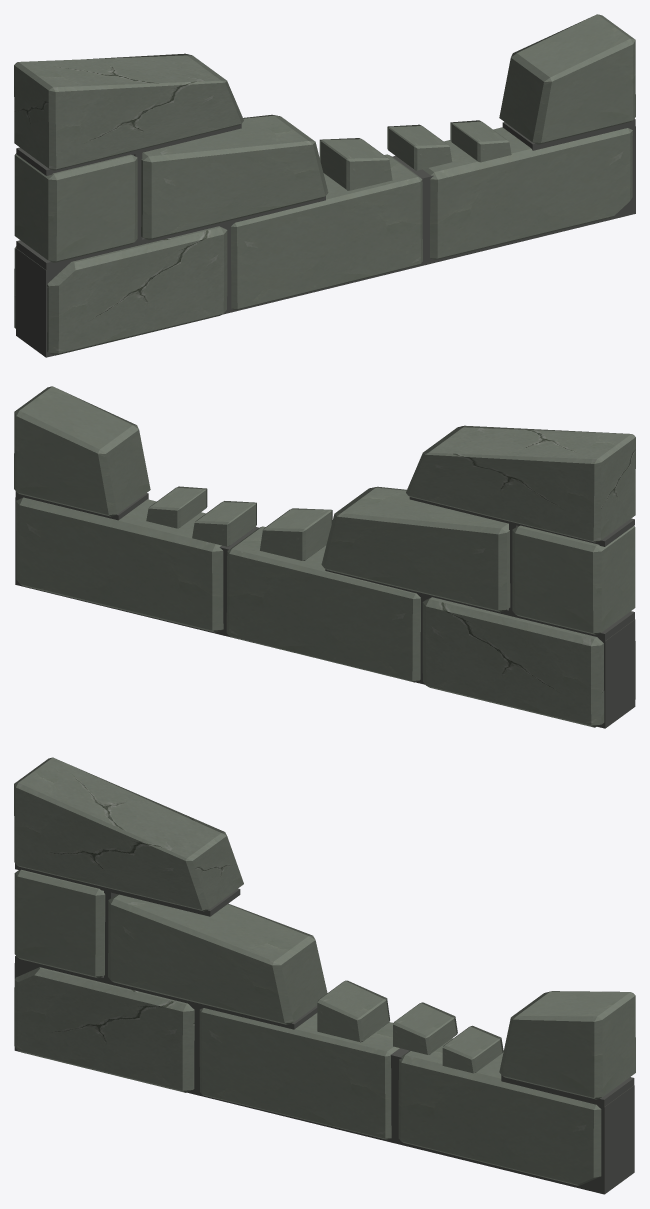
Rendered from Wall001BROKEN_001_NoPillar.fbx.
The picture shows the model from 3 angles, top to bottom: view 1: azimuth 30°, elevation 25°; view 2: azimuth 150°, elevation 25°; view 3: azimuth 330°, elevation 25°; orthographic projection.
Visible parts, largest first — view 1: Wall001BROKEN_001_NoPillar; view 2: Wall001BROKEN_001_NoPillar; view 3: Wall001BROKEN_001_NoPillar.
Boxes of the visible parts, <box> form: Wall001BROKEN_001_NoPillar: <box>14,14,635,357</box>; Wall001BROKEN_001_NoPillar: <box>14,386,635,728</box>; Wall001BROKEN_001_NoPillar: <box>14,757,635,1194</box>.
Size of the model in its own units: 85.52 by 37.45 by 10.34.
4 materials, 3 textured.
